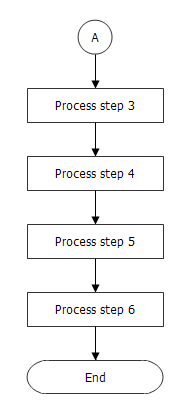arrow: (90, 324, 101, 362), (90, 120, 101, 156), (90, 189, 101, 224), (91, 52, 101, 90), (91, 256, 100, 293)
connection: (75, 17, 114, 57)
process: (25, 86, 166, 125), (25, 154, 166, 193), (25, 222, 165, 261), (25, 290, 165, 328)
terminator: (25, 358, 165, 397)
text: (53, 166, 136, 180), (53, 98, 135, 112), (52, 235, 137, 248), (54, 304, 136, 315), (82, 371, 107, 383), (89, 31, 101, 44)
